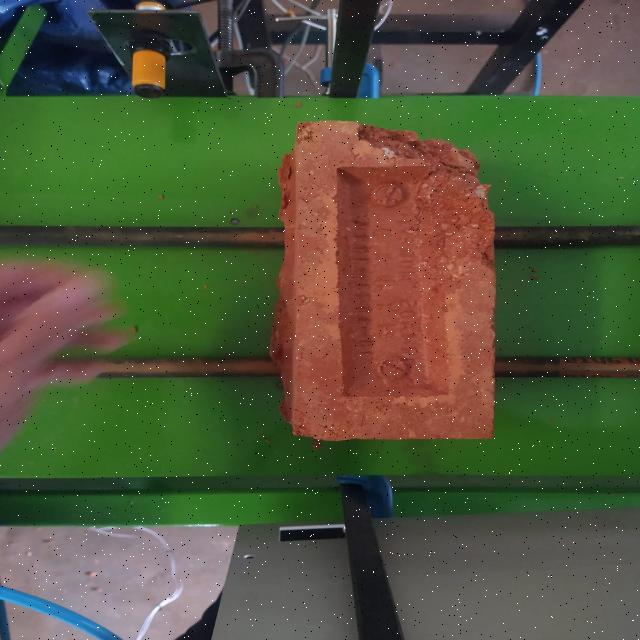bricks_ruin: (267, 122, 498, 441)
